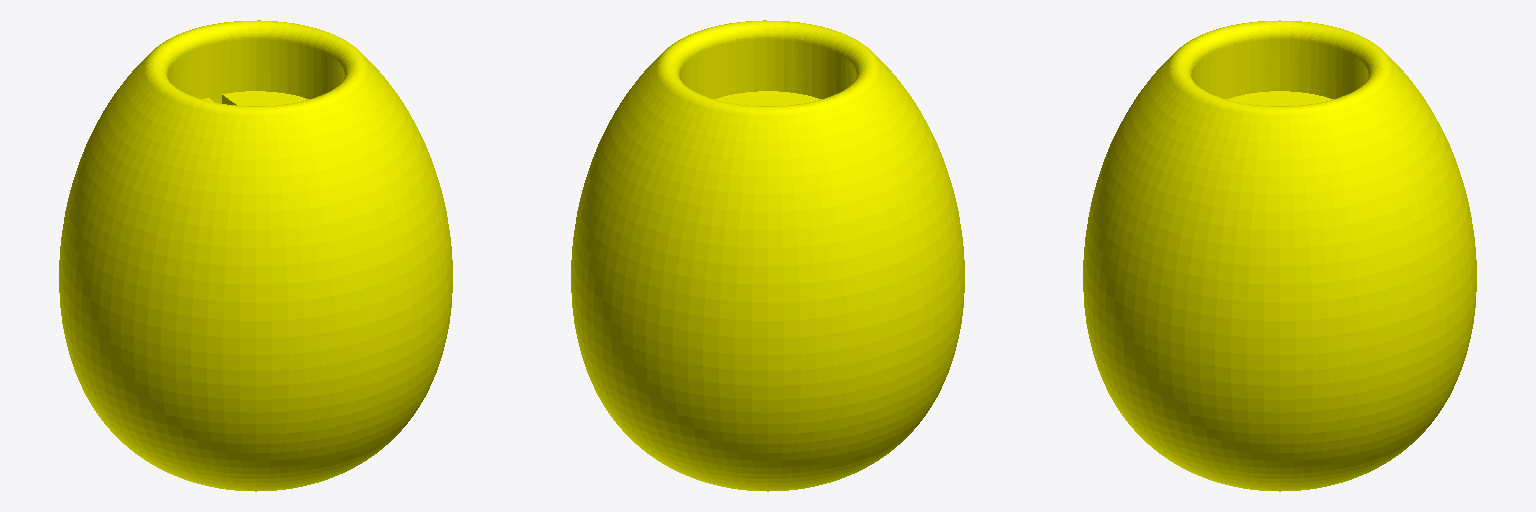
robot.urdf — egg:
<robot name="egg">
  <link name="egg_link">
    <visual>
      <origin xyz="0 0 0" rpy="0 0 0" />
      <geometry>
        <mesh filename="objects/egg_5_w.stl" scale="0.01 0.01 0.01" />
      </geometry>
      <material name="yellow">
        <color rgba="1.0 1.0 0.0 1.0" />
      </material>
    </visual>
    <collision>
      <geometry>
        <mesh filename="objects/egg_5_w.stl" scale="0.01 0.01 0.01" />
      </geometry>
    </collision>
    <inertial>
      <mass value="0.15000000000000002" />
      <inertia ixx="0.00295082" ixy="0.0" ixz="0.0" iyy="0.0038017730000000005" iyz="0.0" izz="0.0038371980000000004" />
    </inertial>
  </link>
</robot>

--- What the picture shows (computed from the rendered views, not written in the file) ---
The picture shows the robot from 3 angles, left to right: view 1: azimuth 30°, elevation 25°; view 2: azimuth 150°, elevation 25°; view 3: azimuth 270°, elevation 25°; orthographic projection.
Model egg with 1 links and 0 joints (none), rooted at egg_link, posed every joint at zero.
Links seen in each view (by area): view 1: egg_link; view 2: egg_link; view 3: egg_link.
Boxes of the visible links, x1,y1,x2,y2 form: egg_link: (59,20,452,491); egg_link: (571,20,964,491); egg_link: (1083,20,1476,491).
Size in the robot's own frame: 0.6003 by 0.6004 by 0.6479 metres.
1 mesh visuals loaded from 1 distinct referenced files (1 binary STL).
